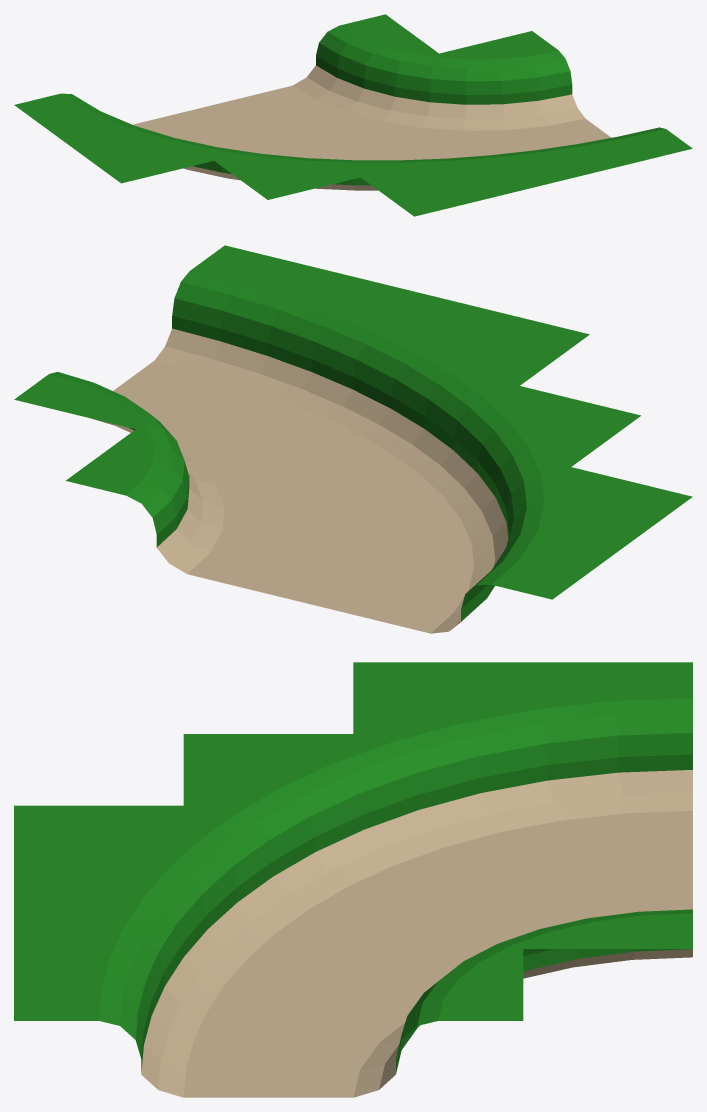
File: Track_Standard_Curve_Widening_4x5.obj
The picture shows the model from 3 angles, top to bottom: view 1: azimuth 30°, elevation 25°; view 2: azimuth 150°, elevation 25°; view 3: azimuth 270°, elevation 25°; orthographic projection. The views are drawn at different scales.
Visible parts, largest first — view 1: Grass, Dirt; view 2: Grass, Dirt; view 3: Grass, Dirt.
Boxes of the visible parts, x1,y1,x2,y2 form: Grass: (14,14,692,216); Dirt: (133,65,611,190); Grass: (14,245,692,621); Dirt: (93,328,508,633); Grass: (14,662,692,1073); Dirt: (141,770,692,1097).
Bounding box in the file's own units: 5 × 0.5 × 4.
